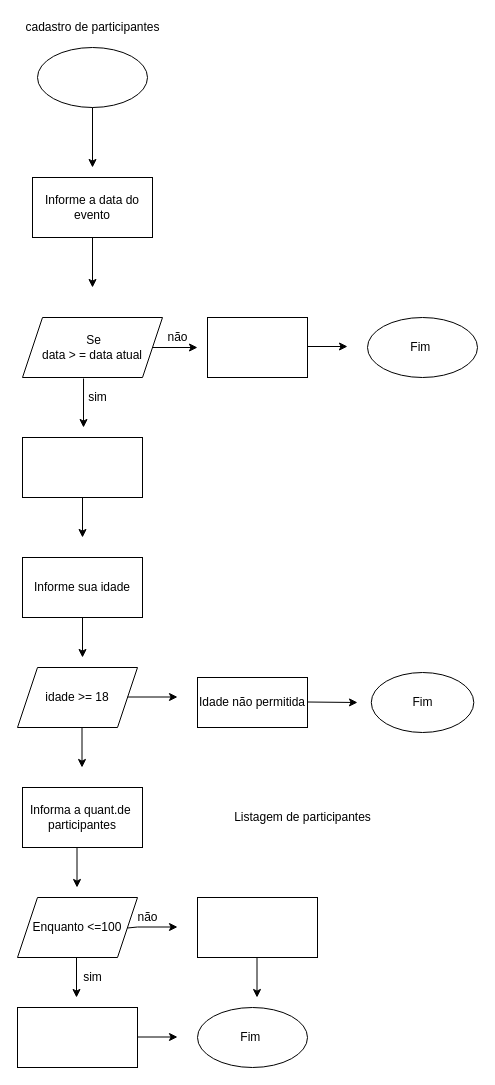
Image size: 495x1085. Some labels were removed from this diagram. The centre of each missing label's shape, as x and y in pixels:
"Cadastro não permitido por exceder o limite" belongs at point (257, 927).
"cadastro permitido" belongs at point (77, 1037).
"Data de evento aprovada" belongs at point (82, 467).
"data invalida" belongs at point (257, 347).
"Inicio" belongs at point (92, 77).
